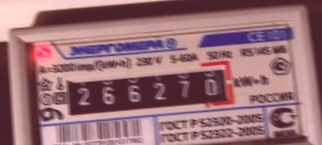0: (202, 75, 218, 96)
2: (152, 80, 167, 101), (76, 84, 90, 106)
6: (101, 83, 114, 105), (127, 82, 141, 102)
7: (178, 78, 190, 97)
screen: (53, 54, 240, 125)
